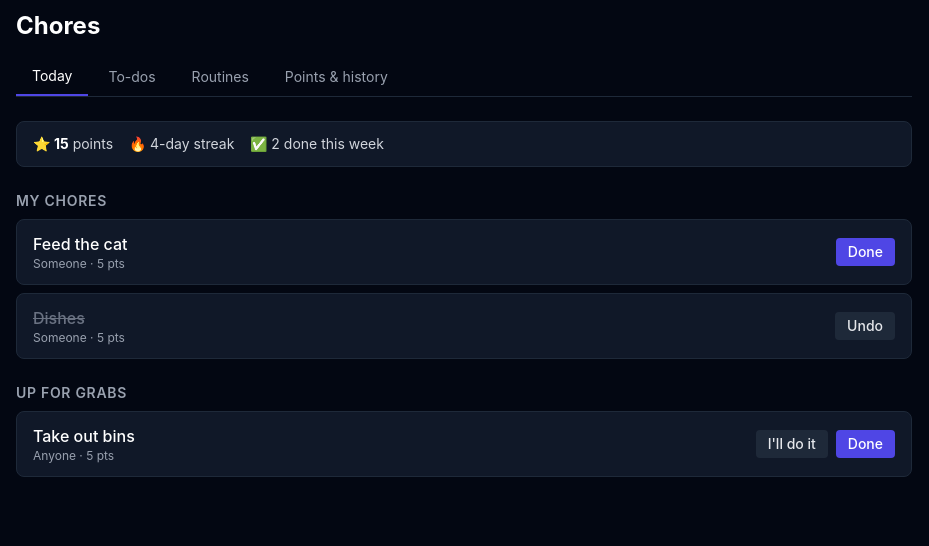
Test case: ChoresPage › Today › shows the server's reason when an action fails
This screenshot has width=929, height=546.
Click the button with aria-label "Done: Feed the cat".
click(865, 252)  # box [836, 238, 895, 266]
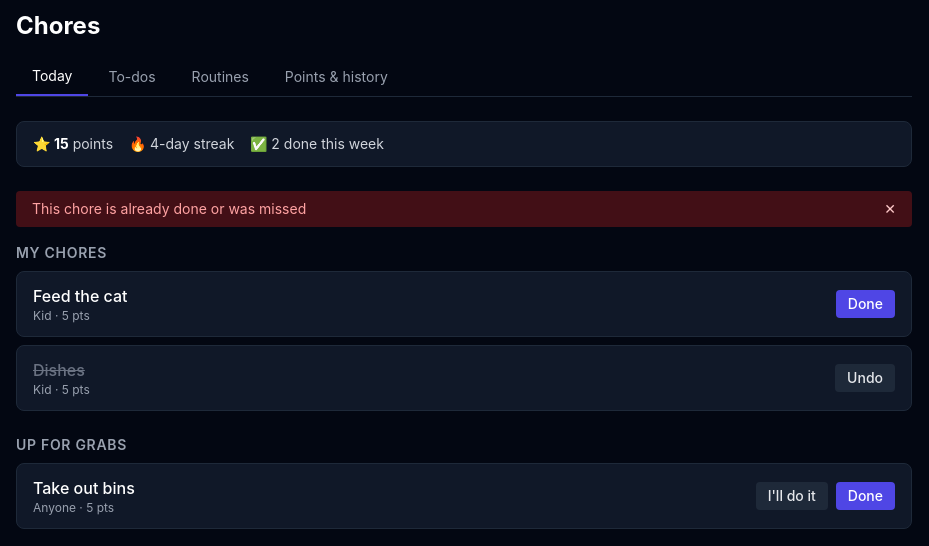
expect the text "This chore is already done or was missed" is shown: met, box [32, 199, 306, 219]
